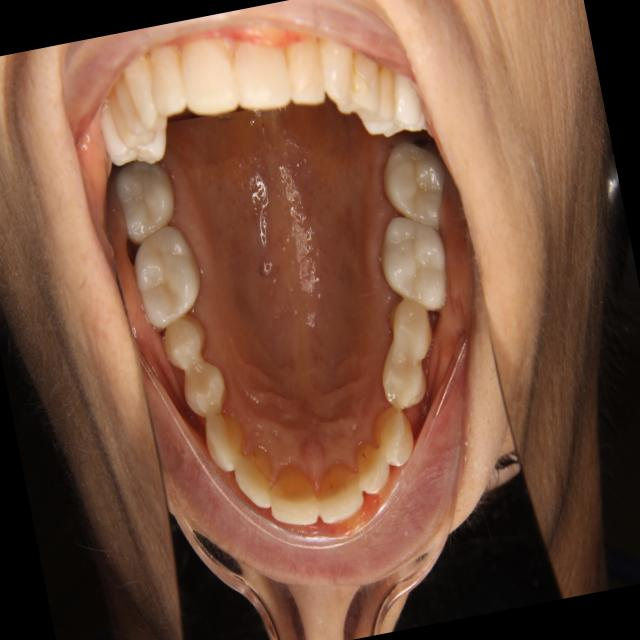tooth: (120, 217, 221, 343), (372, 121, 465, 252), (368, 202, 460, 326), (247, 437, 333, 545), (105, 152, 190, 248), (223, 424, 292, 528), (303, 443, 375, 535), (370, 333, 438, 423), (170, 344, 239, 431), (362, 391, 430, 475), (148, 302, 223, 378), (197, 397, 258, 487), (346, 432, 406, 510), (380, 292, 444, 365)
